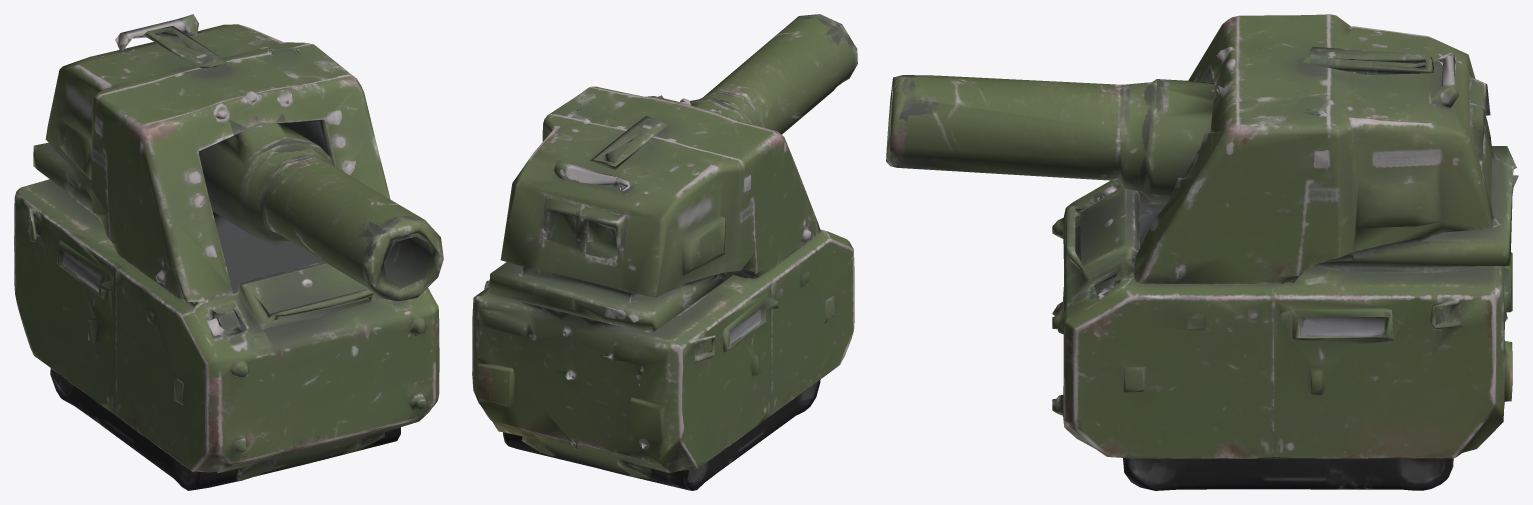
The model's file is hullweapon-b-1.glb.
3 views of the same model, side by side, from view 1: azimuth 30°, elevation 25°; view 2: azimuth 150°, elevation 25°; view 3: azimuth 270°, elevation 25° (orthographic). The views are drawn at different scales.
Visible parts, largest first — view 1: Body; view 2: Body; view 3: Body.
Part boxes in pixels (x1=…): Body: x1=14, y1=14, x2=443, y2=490; Body: x1=472, y1=14, x2=857, y2=490; Body: x1=886, y1=14, x2=1518, y2=490.
Size of the model in its own units: 0.8429 by 1.11 by 1.66.
Materials: 1 (1 with a texture image).
